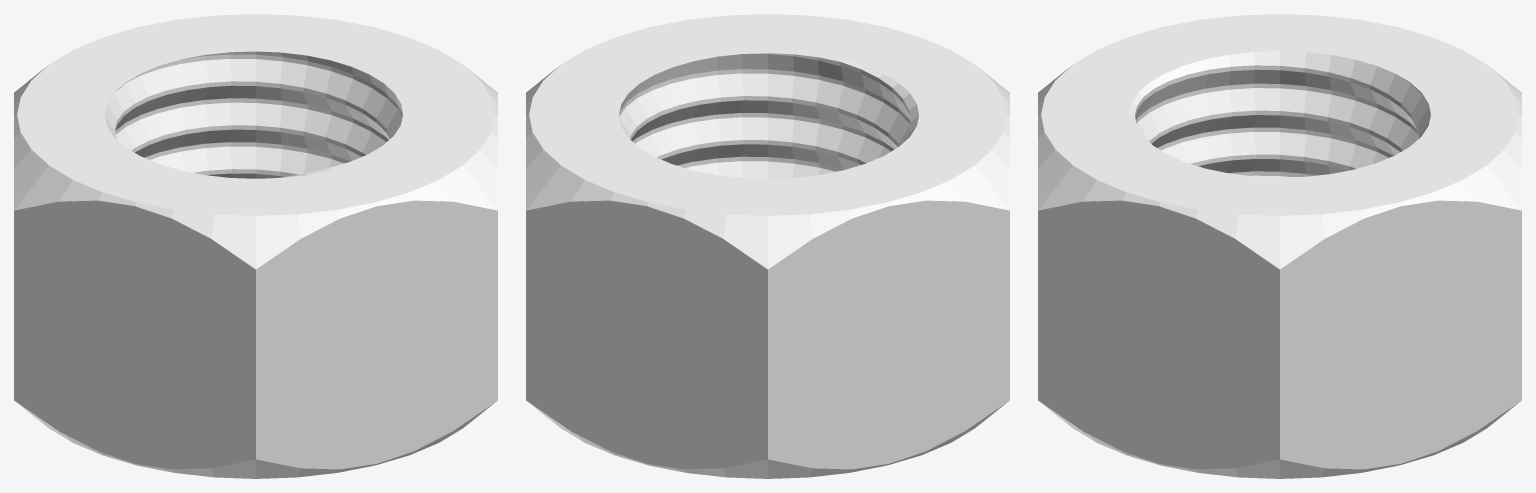
3 renders of one model, left to right at view 1: azimuth 30°, elevation 25°; view 2: azimuth 150°, elevation 25°; view 3: azimuth 270°, elevation 25°, orthographic.
Parts seen in each view (by area): view 1: M5; view 2: M5; view 3: M5.
Boxes of the visible parts, <box> form: M5: <box>14,14,497,478</box>; M5: <box>526,14,1009,478</box>; M5: <box>1038,14,1521,478</box>.
Bounding box in the file's own units: 924 × 480 × 800.
Materials: 1 (1 with a texture image).
